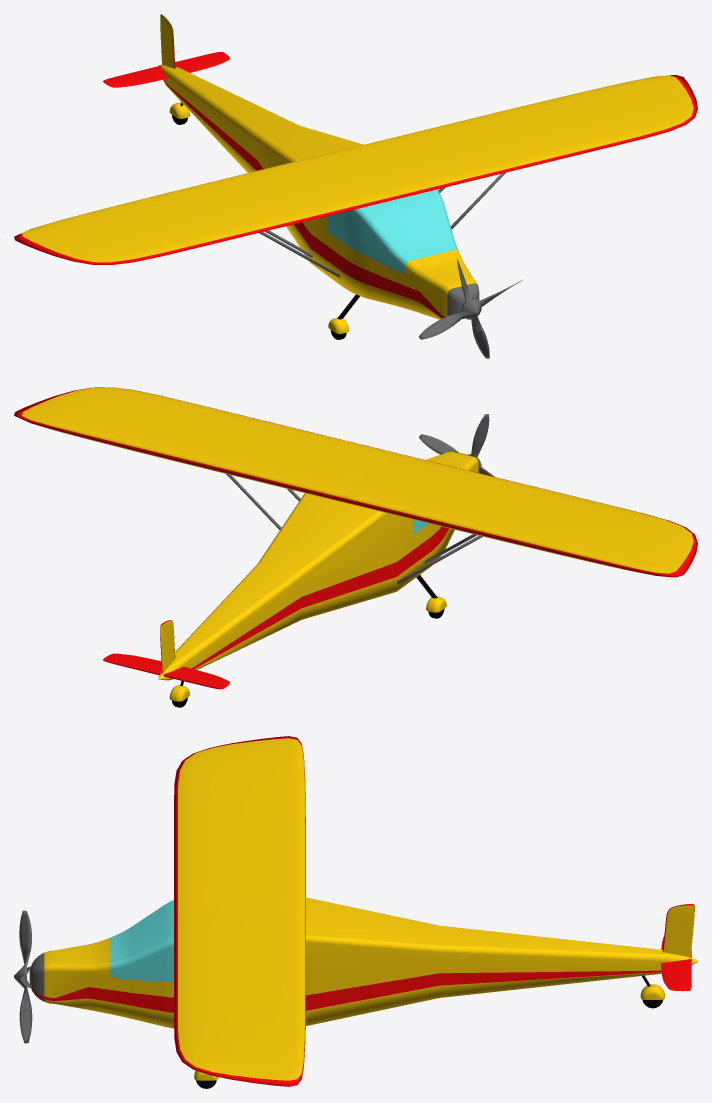
The picture shows the model from 3 angles, top to bottom: view 1: azimuth 30°, elevation 25°; view 2: azimuth 150°, elevation 25°; view 3: azimuth 270°, elevation 25°; orthographic projection. The views are drawn at different scales.
Visible parts, largest first — view 1: Cube.001, Cube.039, Cube.025, Cube.038, Cube.040, Cube.027; view 2: Cube.001, Cube.039, Cube.025, Cube.040, Cube.038, Cube.027; view 3: Cube.001, Cube.025, Cube.039, Cube.027, Cube.038, Cube.040.
Part boxes in pixels (left/top/right/bottom): Cube.001: left=158, top=64, right=479, bottom=319; Cube.039: left=14, top=150, right=402, bottom=264; Cube.025: left=343, top=75, right=697, bottom=197; Cube.038: left=418, top=258, right=522, bottom=358; Cube.040: left=103, top=52, right=229, bottom=87; Cube.027: left=160, top=14, right=175, bottom=68; Cube.001: left=158, top=451, right=479, bottom=680; Cube.039: left=341, top=454, right=697, bottom=577; Cube.025: left=14, top=387, right=400, bottom=501; Cube.040: left=103, top=653, right=229, bottom=689; Cube.038: left=419, top=414, right=494, bottom=476; Cube.027: left=160, top=620, right=175, bottom=673; Cube.001: left=29, top=897, right=697, bottom=1028; Cube.025: left=174, top=906, right=305, bottom=1086; Cube.039: left=174, top=736, right=305, bottom=911; Cube.027: left=662, top=904, right=694, bottom=957; Cube.038: left=14, top=910, right=32, bottom=1043; Cube.040: left=661, top=936, right=691, bottom=991.
Size of the model in its own units: 2482 by 523 by 2046.
